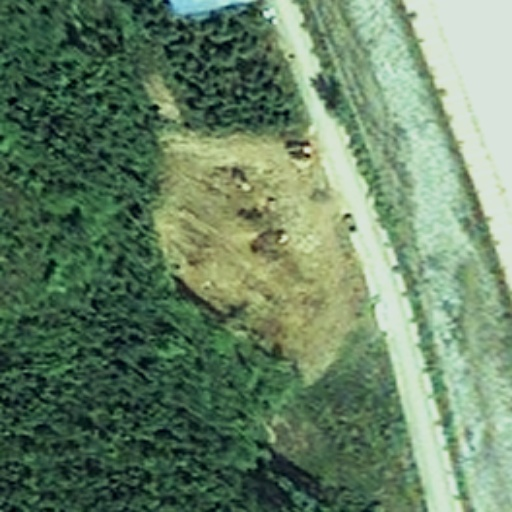landslide: (147, 129, 358, 378)
